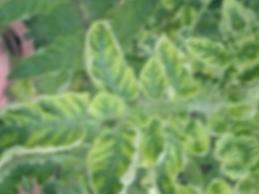Tomato leaf yellow virus: (0, 66, 93, 171), (64, 0, 151, 110), (61, 109, 163, 194), (137, 21, 201, 104), (185, 24, 237, 81), (168, 103, 217, 161), (127, 116, 177, 171), (211, 113, 259, 160), (132, 55, 175, 105), (173, 0, 202, 32)
